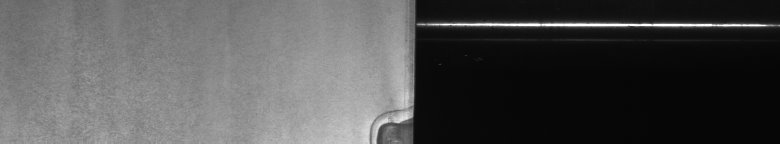hb: (363, 100, 404, 136)
